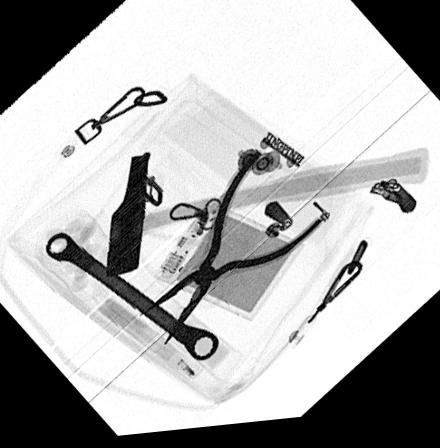Hammer: (107, 155, 429, 279)
Pliers: (135, 154, 327, 350)
Powerbank: (152, 206, 304, 328)
Wrench: (46, 231, 219, 364)
